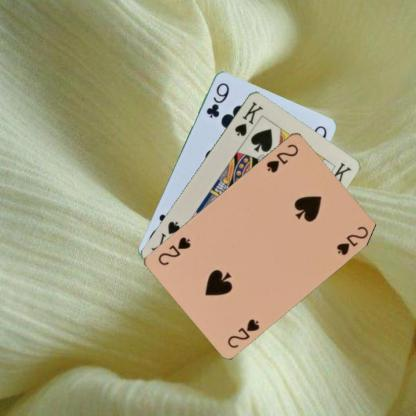2s: (225, 315, 261, 349), (263, 141, 300, 174)
9c: (204, 80, 231, 120)
Ks: (232, 98, 264, 138)
